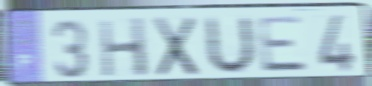3: (50, 16, 89, 81)
4: (316, 11, 358, 74)
E: (256, 14, 311, 74)
H: (96, 15, 151, 79)
U: (204, 13, 257, 77)
X: (152, 14, 200, 79)
